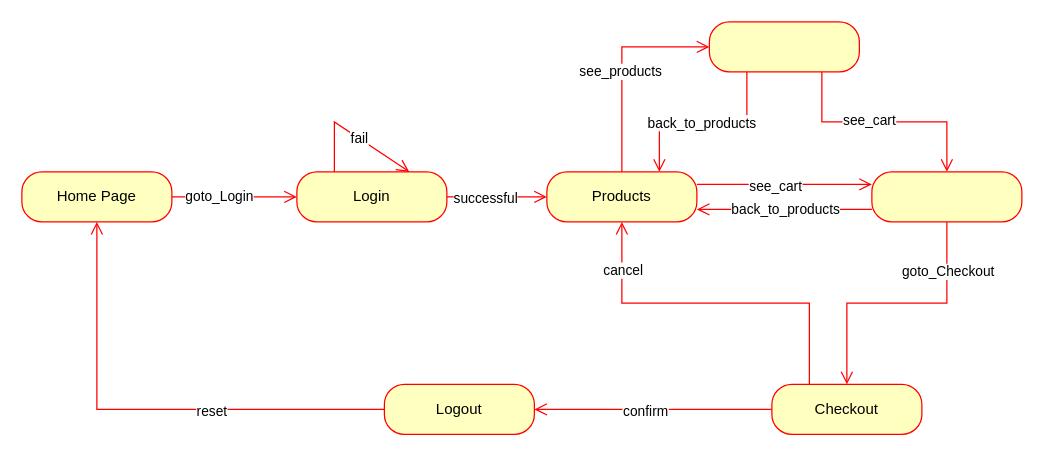
Image size: 1044x456. Some labels were removed from this diagram. Here are the shapes that lost their labels. From the top down, the centre of each, then its label:
At (x=783, y=46): "Product Site".
At (x=946, y=196): "Shopping Cart".
